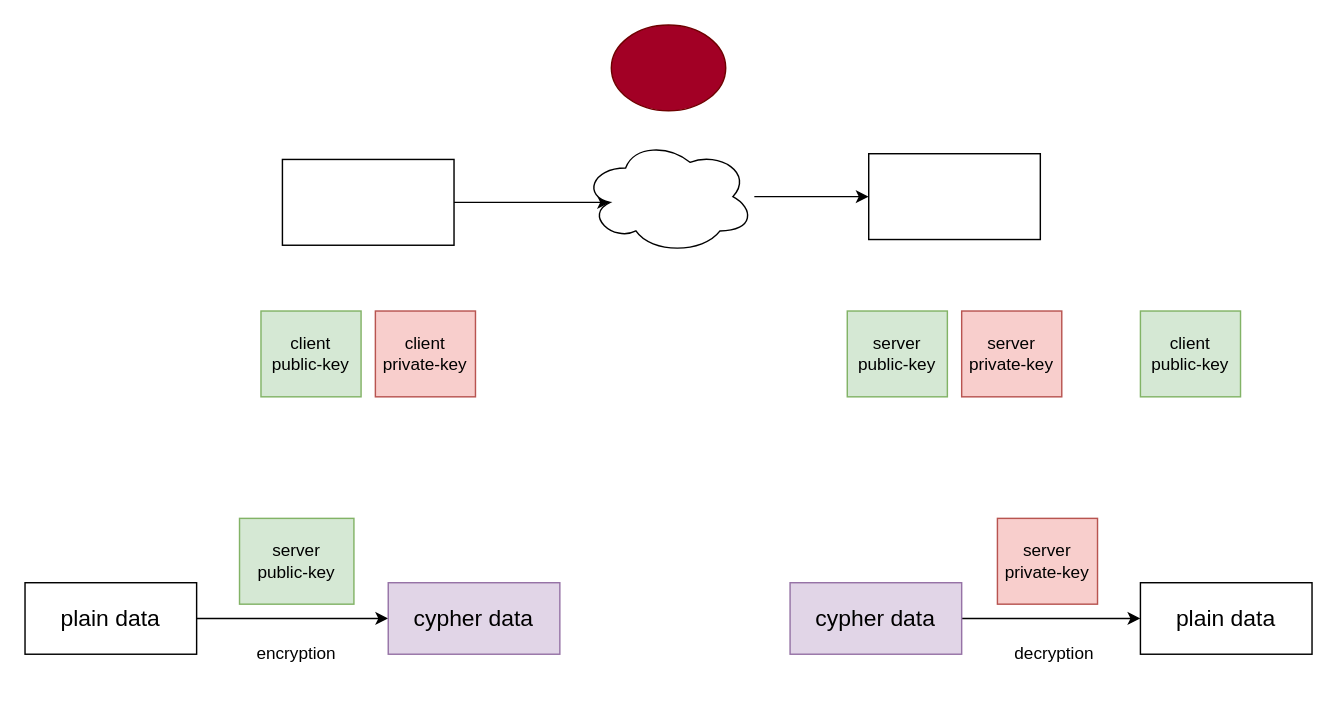
Some shapes in this 1337 by 701 pixel diagram are drawn without their labels. Here are the shapes that lost their labels. From the top down, the centre of each, then its label:
point 668,67: HTTPS
point 367,201: client
point 953,196: server
